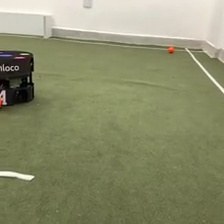ball: (168, 46, 176, 54)
goal: (1, 9, 54, 39)
robot: (1, 49, 37, 108)
